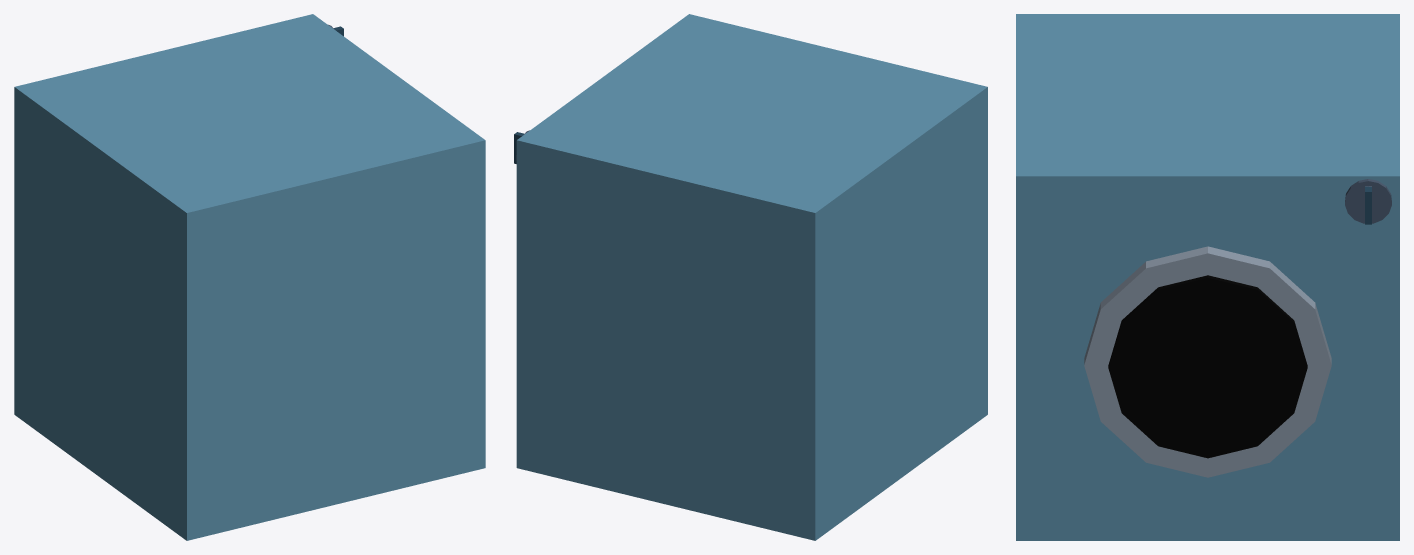
File: washing_machine.fbx
3 renders of one model, left to right at view 1: azimuth 30°, elevation 25°; view 2: azimuth 150°, elevation 25°; view 3: azimuth 270°, elevation 25°, orthographic. The views are drawn at different scales.
Parts seen in each view (by area): view 1: Cube; view 2: Cube; view 3: Cube, Circle.002, Circle.001, Circle.
Part boxes in pixels (x1,y1,x2,y2): Cube: (14,14,485,540); Cube: (516,14,987,540); Cube: (1016,14,1399,540); Circle.002: (1108,275,1307,458); Circle.001: (1084,246,1331,477); Circle: (1345,179,1391,223).
Bounding box in the file's own units: 212 × 210 × 200.
